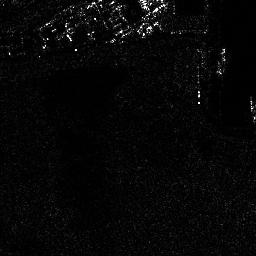ship: (217, 46, 226, 74)
